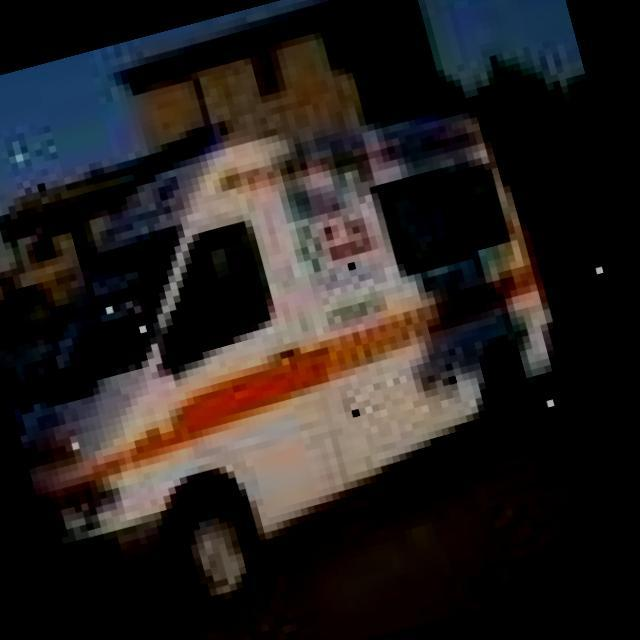emergency-vehicle: (0, 49, 611, 640)
